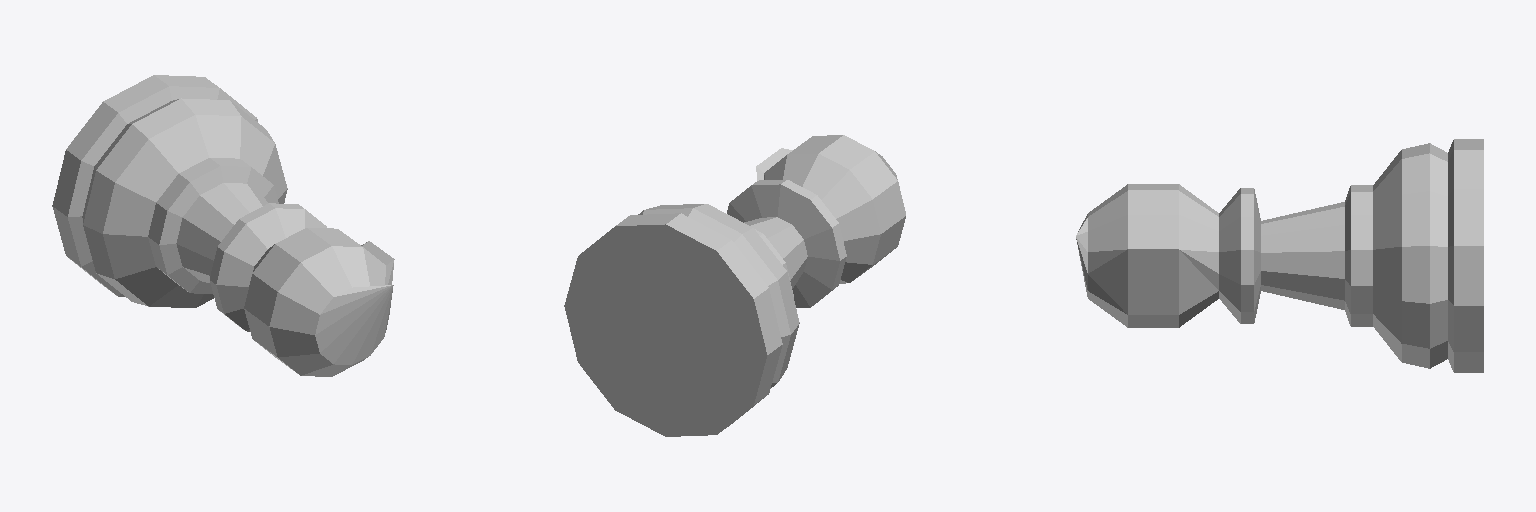
Rendered from Pawn.obj.
3 views of the same model, side by side, from view 1: azimuth 30°, elevation 25°; view 2: azimuth 150°, elevation 25°; view 3: azimuth 270°, elevation 25° (orthographic).
Visible parts, largest first — view 1: Pawn PiezasAjedrez:Mesh; view 2: Pawn PiezasAjedrez:Mesh; view 3: Pawn PiezasAjedrez:Mesh.
Part boxes in pixels (x1,y1,x2,y2): Pawn PiezasAjedrez:Mesh: (52, 75, 394, 376); Pawn PiezasAjedrez:Mesh: (564, 135, 905, 436); Pawn PiezasAjedrez:Mesh: (1076, 139, 1483, 372).
Bounding box in the file's own units: 2.86 × 2.86 × 4.99.